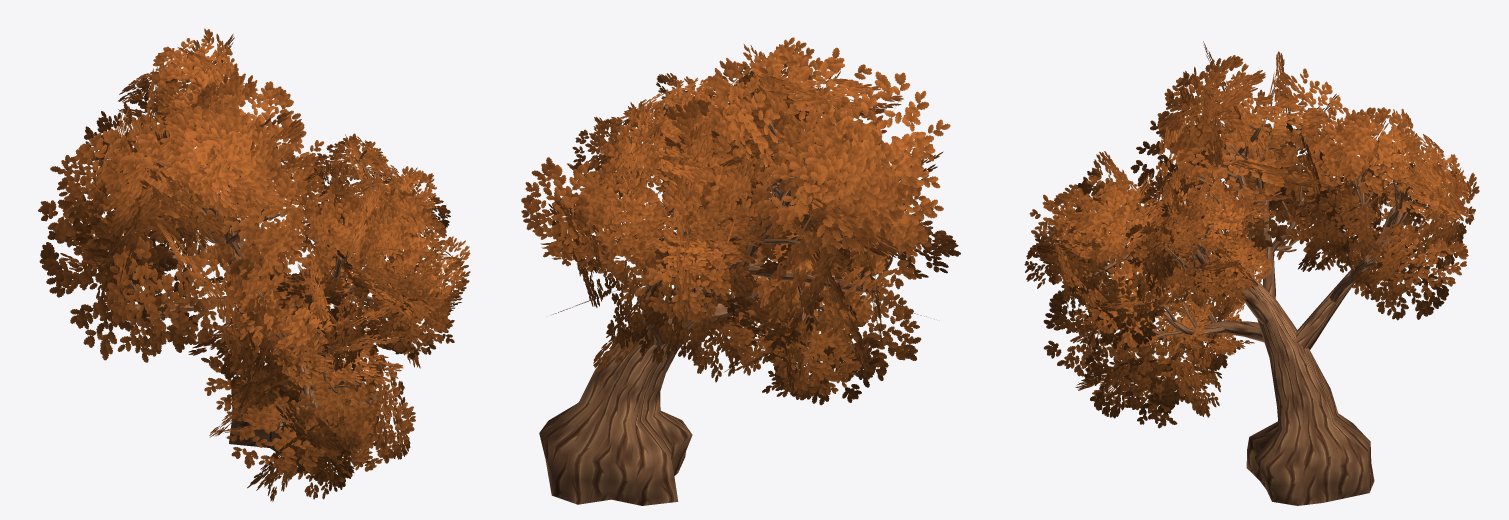
File: ct_oak_2.gltf
3 renders of one model, left to right at view 1: azimuth 30°, elevation 25°; view 2: azimuth 150°, elevation 25°; view 3: azimuth 270°, elevation 25°, orthographic. The views are drawn at different scales.
Parts seen in each view (by area): view 1: ct_oak_2_leaves_LOD0, ct_oak_2_trunk_LOD0; view 2: ct_oak_2_leaves_LOD0, ct_oak_2_trunk_LOD0; view 3: ct_oak_2_leaves_LOD0, ct_oak_2_trunk_LOD0.
Part boxes in pixels (box(x1,y1,x2,y2)): ct_oak_2_leaves_LOD0: box(38, 28, 470, 501); ct_oak_2_trunk_LOD0: box(128, 93, 415, 458); ct_oak_2_leaves_LOD0: box(521, 37, 960, 405); ct_oak_2_trunk_LOD0: box(539, 89, 892, 505); ct_oak_2_leaves_LOD0: box(1024, 41, 1479, 428); ct_oak_2_trunk_LOD0: box(1082, 123, 1410, 505).
Size of what is drawn, in the model's own units: 9.03 by 9.93 by 11.52.
2 materials, 2 textured.
